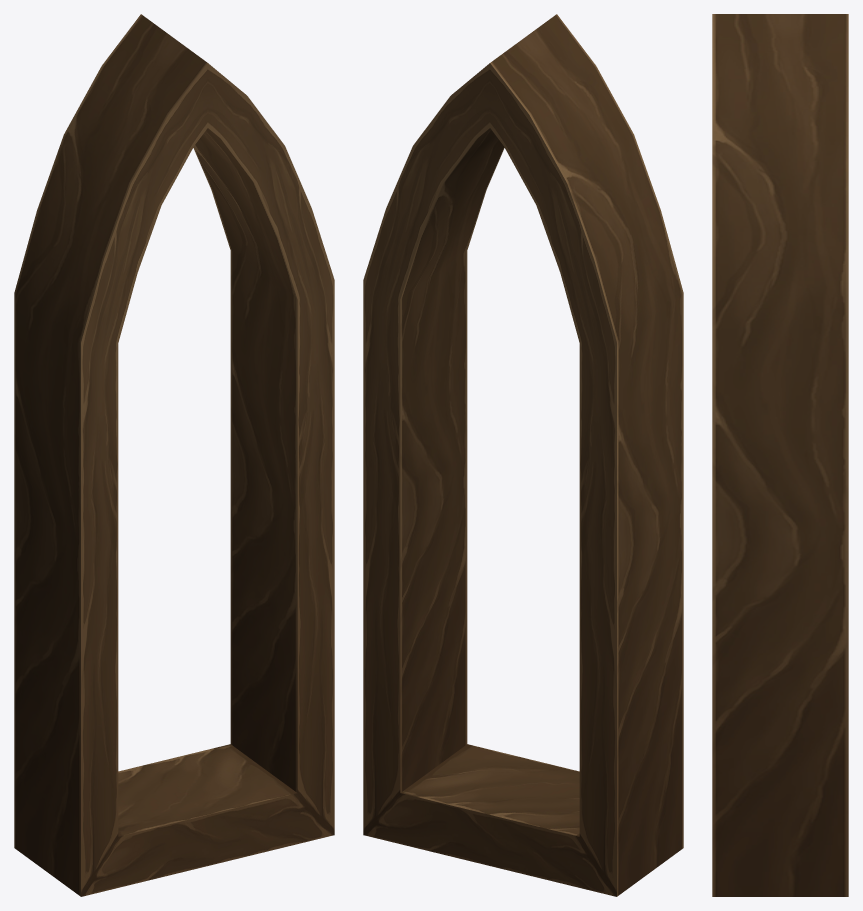
The model's file is Window_3_2.FBX.
3 views of the same model, side by side, from view 1: azimuth 30°, elevation 25°; view 2: azimuth 150°, elevation 25°; view 3: azimuth 270°, elevation 25° (orthographic). The views are drawn at different scales.
Visible parts, largest first — view 1: Window_3_2; view 2: Window_3_2; view 3: Window_3_2.
Part boxes in pixels (left/top/right/bottom): Window_3_2: left=14, top=14, right=334, bottom=896; Window_3_2: left=363, top=14, right=683, bottom=896; Window_3_2: left=712, top=14, right=848, bottom=896.
Size of the model in its own units: 628 by 1901 by 287.
